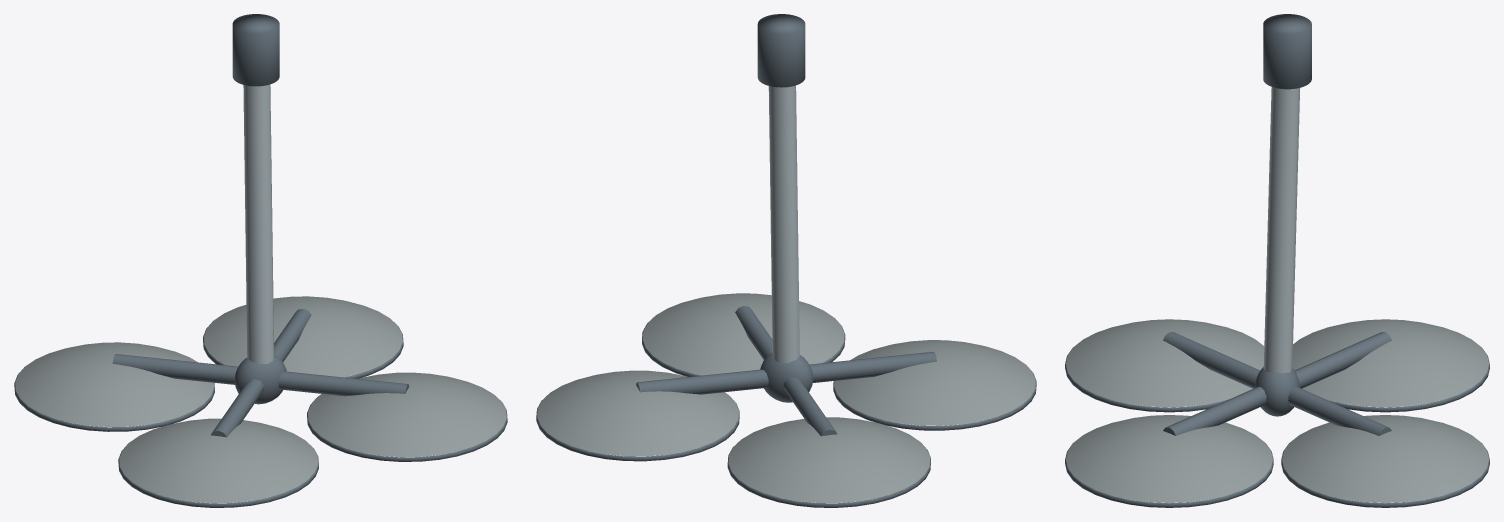
The model's file is apollo_sm.high_gain_antenna.glb.
The picture shows the model from 3 angles, left to right: view 1: azimuth 30°, elevation 25°; view 2: azimuth 150°, elevation 25°; view 3: azimuth 270°, elevation 25°; orthographic projection. The views are drawn at different scales.
Parts seen in each view (by area): view 1: apollo_sm.high_gain_antenna.reflector_frame.reflector_01.mes, apollo_sm.high_gain_antenna.reflector_frame.reflector_02.mes, apollo_sm.high_gain_antenna.reflector_frame.reflector_03.mes, apollo_sm.high_gain_antenna.mesh, apollo_sm.high_gain_antenna.reflector_frame.reflector_04.mes, apollo_sm.high_gain_antenna.reflector_frame.mesh; view 2: apollo_sm.high_gain_antenna.reflector_frame.reflector_03.mes, apollo_sm.high_gain_antenna.reflector_frame.reflector_04.mes, apollo_sm.high_gain_antenna.reflector_frame.reflector_01.mes, apollo_sm.high_gain_antenna.mesh, apollo_sm.high_gain_antenna.reflector_frame.reflector_02.mes, apollo_sm.high_gain_antenna.reflector_frame.mesh; view 3: apollo_sm.high_gain_antenna.reflector_frame.reflector_02.mes, apollo_sm.high_gain_antenna.reflector_frame.reflector_04.mes, apollo_sm.high_gain_antenna.reflector_frame.reflector_01.mes, apollo_sm.high_gain_antenna.reflector_frame.reflector_03.mes, apollo_sm.high_gain_antenna.mesh, apollo_sm.high_gain_antenna.reflector_frame.mesh.
Part boxes in pixels (left/top/right/bottom): apollo_sm.high_gain_antenna.reflector_frame.reflector_01.mes: left=118, top=418, right=318, bottom=507; apollo_sm.high_gain_antenna.reflector_frame.reflector_02.mes: left=307, top=372, right=507, bottom=461; apollo_sm.high_gain_antenna.reflector_frame.reflector_03.mes: left=14, top=342, right=214, bottom=431; apollo_sm.high_gain_antenna.mesh: left=232, top=14, right=279, bottom=364; apollo_sm.high_gain_antenna.reflector_frame.reflector_04.mes: left=203, top=296, right=403, bottom=378; apollo_sm.high_gain_antenna.reflector_frame.mesh: left=112, top=308, right=409, bottom=437; apollo_sm.high_gain_antenna.reflector_frame.reflector_03.mes: left=727, top=417, right=930, bottom=507; apollo_sm.high_gain_antenna.reflector_frame.reflector_04.mes: left=536, top=370, right=739, bottom=461; apollo_sm.high_gain_antenna.reflector_frame.reflector_01.mes: left=833, top=340, right=1036, bottom=430; apollo_sm.high_gain_antenna.mesh: left=757, top=14, right=805, bottom=363; apollo_sm.high_gain_antenna.reflector_frame.reflector_02.mes: left=642, top=293, right=845, bottom=376; apollo_sm.high_gain_antenna.reflector_frame.mesh: left=636, top=305, right=936, bottom=436; apollo_sm.high_gain_antenna.reflector_frame.reflector_02.mes: left=1065, top=415, right=1273, bottom=507; apollo_sm.high_gain_antenna.reflector_frame.reflector_04.mes: left=1281, top=415, right=1489, bottom=507; apollo_sm.high_gain_antenna.reflector_frame.reflector_01.mes: left=1065, top=319, right=1264, bottom=412; apollo_sm.high_gain_antenna.reflector_frame.reflector_03.mes: left=1292, top=319, right=1489, bottom=412; apollo_sm.high_gain_antenna.mesh: left=1263, top=14, right=1311, bottom=373; apollo_sm.high_gain_antenna.reflector_frame.mesh: left=1163, top=332, right=1391, bottom=435.
Bounding box in the file's own units: 1.73 × 1.87 × 1.69.
